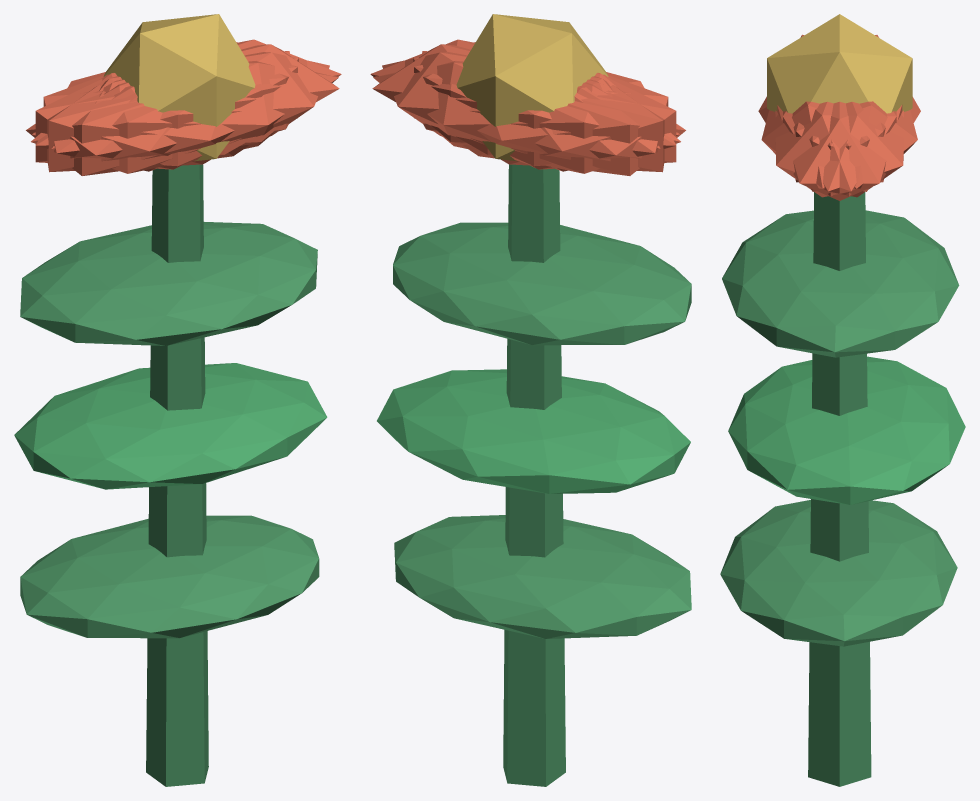
File: elephantopus-scaber.glb
3 views of the same model, side by side, from view 1: azimuth 30°, elevation 25°; view 2: azimuth 150°, elevation 25°; view 3: azimuth 270°, elevation 25° (orthographic).
Parts seen in each view (by area): view 1: leaf2, leaf1, leaf0, stem, center, petal1, petal6, petal2, petal5, petal7, petal0, petal4 (+2 smaller); view 2: leaf1, leaf2, leaf0, stem, center, petal8, petal3, petal7, petal4, petal2, petal0, petal5 (+2 smaller); view 3: leaf2, leaf1, leaf0, stem, center, petal0, petal5, petal4, petal8, petal1.
Boxes of the visible parts, x1,y1,x2,y2 form: leaf2: (20,222,317,345); leaf1: (14,363,327,489); leaf0: (20,515,319,638); stem: (146,164,208,786); center: (103,14,255,161); petal1: (31,61,338,173); petal6: (26,74,248,175); petal2: (47,51,289,172); petal5: (51,52,329,166); petal7: (35,57,298,169); petal0: (103,44,339,155); petal4: (32,39,341,145); leaf1: (377,369,690,493); leaf2: (393,222,691,345); leaf0: (394,515,691,638); stem: (503,164,565,786); center: (456,14,608,161); petal8: (373,61,680,173); petal3: (463,74,685,175); petal7: (422,51,664,172); petal4: (382,52,660,166); petal2: (413,57,676,169); petal0: (372,44,608,155); petal5: (370,39,679,145); leaf2: (722,210,959,357); leaf1: (728,356,965,504); leaf0: (720,500,957,646); stem: (808,192,871,786); center: (767,14,912,113); petal0: (777,101,902,200); petal5: (775,101,896,197); petal4: (783,101,903,197); petal8: (793,101,917,188); petal1: (761,101,885,188).
Bounding box in the file's own units: 0.1497 × 0.3434 × 0.1033.
